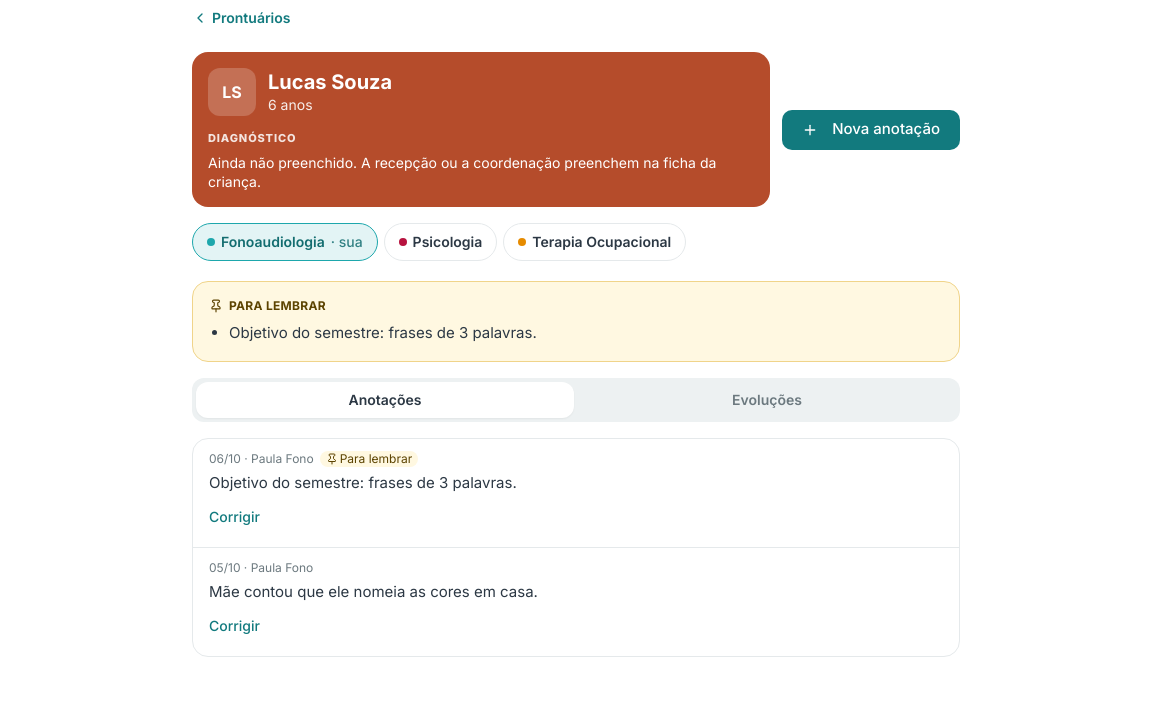
Test: quem escreveu corrige a própria anotação
Expected: the heading "Lucas Souza" is shown, [268,70,392,94]
Click the button "Corrigir" below "05/10": (234, 626) [209,608,260,644]
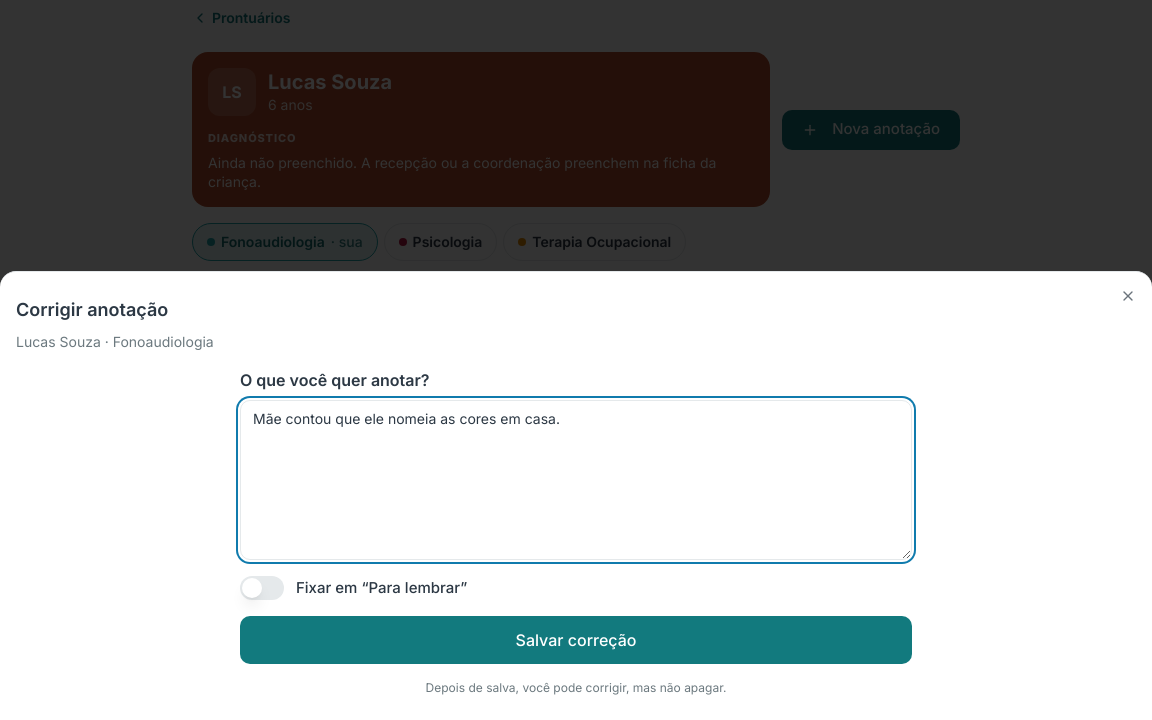
Expected: the text box labelled "O que você quer anotar?" holds "Mãe contou que ele nomeia as cores em casa."
Replace the text in the text box labelled "O que você quer anotar?" with "Mãe contou que ele nomeia 6 cores em casa.": (576, 480) [240,400,912,560]
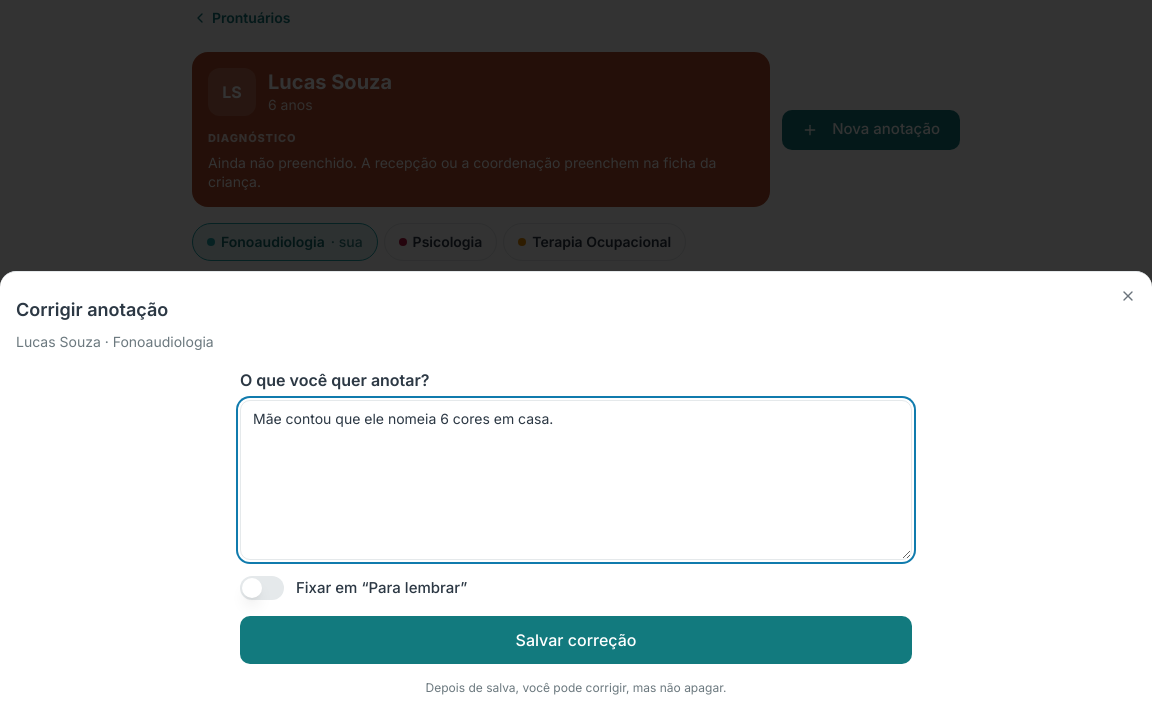
Click the button "Salvar correção": (576, 640) [240,616,912,664]
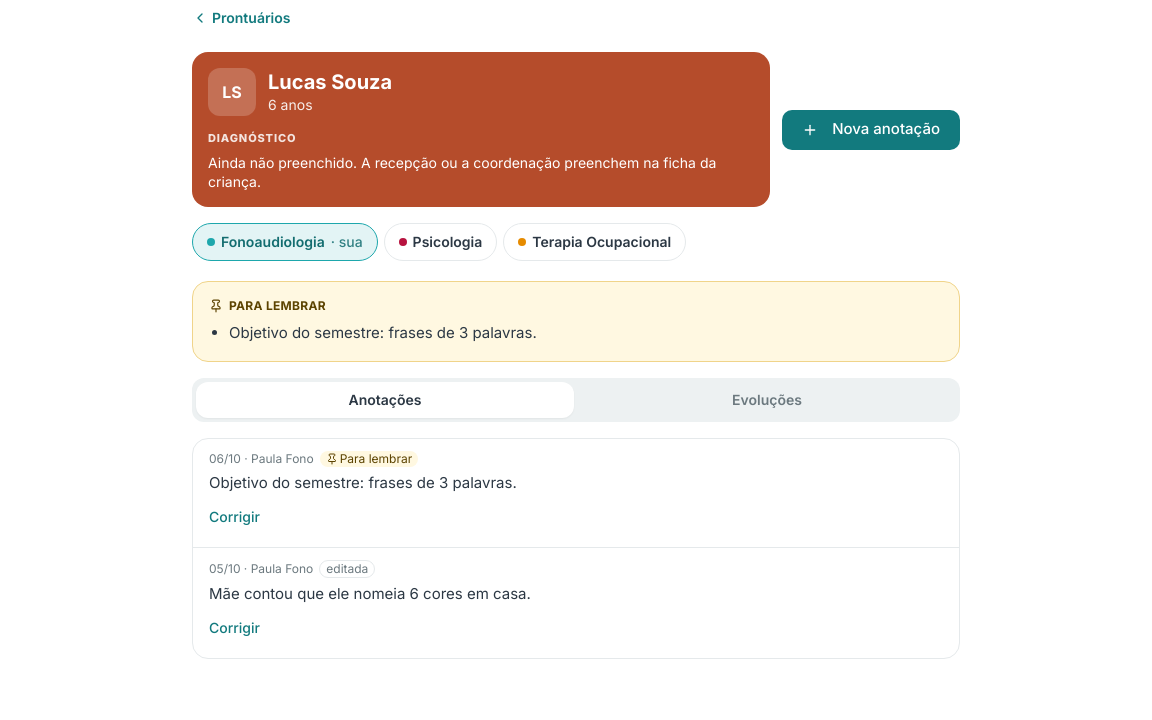
Expected: the text "Mãe contou que ele nomeia 6 cores em casa." is shown, [209,584,531,603]
